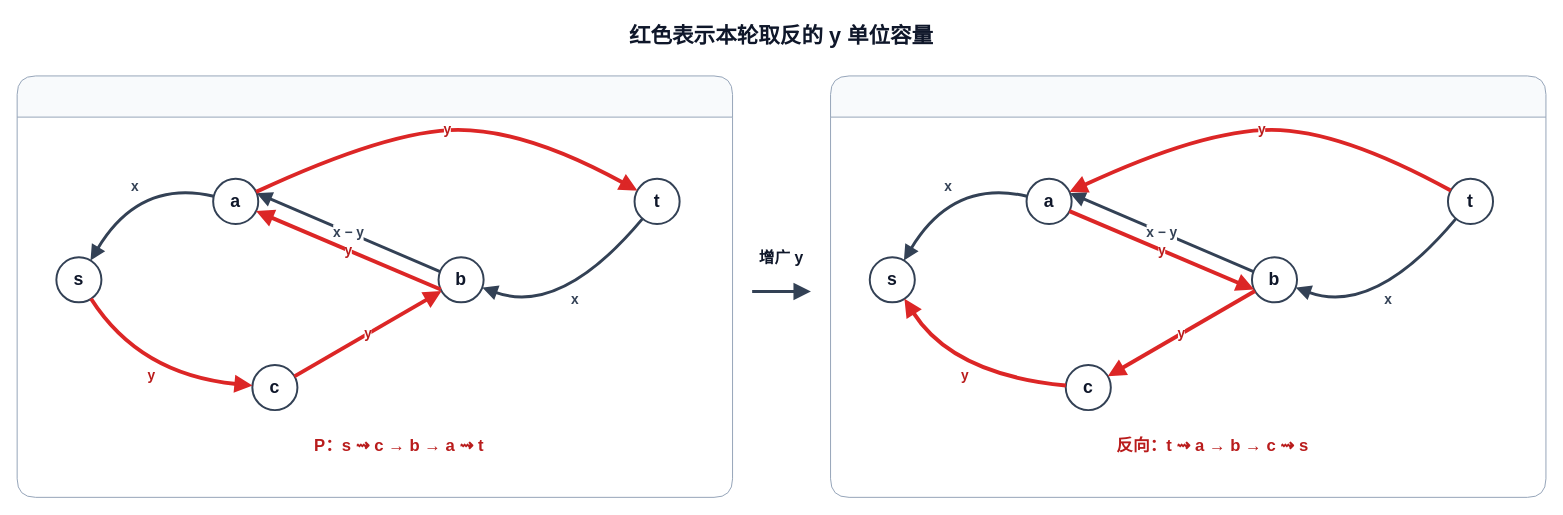
Image size: 1563x515. Some labels were removed from this diagram. The box of each missing label's shape, as (x1, y1, x2, y2) in pixels:
① 找到增广路 P，取 y: (16, 75, 733, 497)
④ 将 P 中的 y 取反: (830, 75, 1546, 497)
